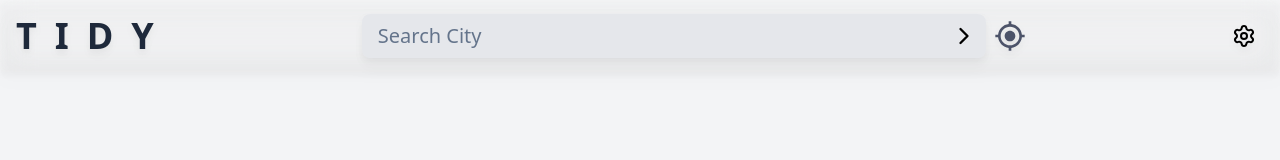
Test: AppHeader search autocomplete › shows debounced suggestions below the search bar
Type "dha" into the dropdown with placeholder "Search City" at [660, 36], box x1=370 y1=22 x2=950 y2=50
Wait 300 ms
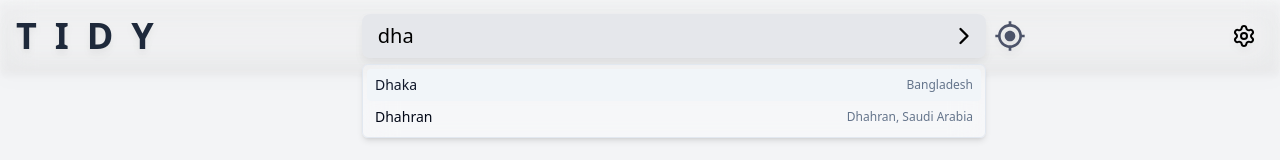
Expected: the option "Dhaka Bangladesh" is shown, x1=367 y1=69 x2=981 y2=101
Expected: the option "Dhahran Dhahran, Saudi Arabia" is shown, x1=375 y1=107 x2=973 y2=126
